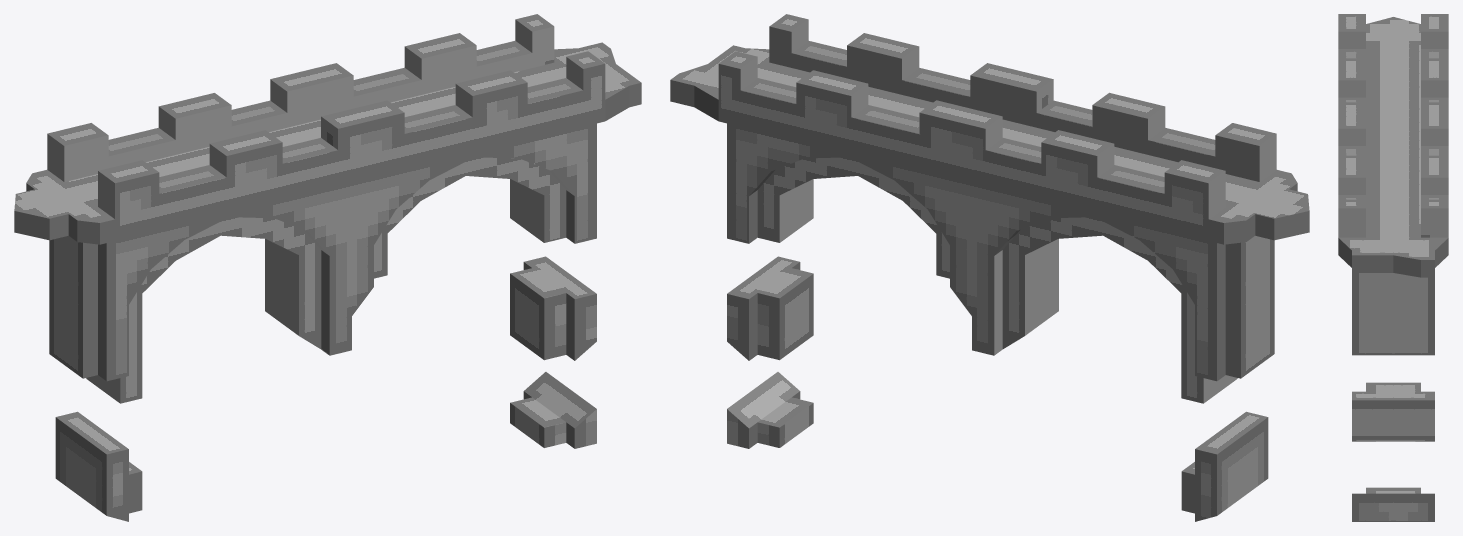
Rendered from Bridge_Type#1.gltf.
The picture shows the model from 3 angles, left to right: view 1: azimuth 30°, elevation 25°; view 2: azimuth 150°, elevation 25°; view 3: azimuth 270°, elevation 25°; orthographic projection. The views are drawn at different scales.
Parts seen in each view (by area): view 1: Bridge_Type1; view 2: Bridge_Type1; view 3: Bridge_Type1.
Boxes of the visible parts, box(x1,y1,x2,y2) form: Bridge_Type1: box(14, 14, 641, 521); Bridge_Type1: box(670, 14, 1309, 521); Bridge_Type1: box(1338, 14, 1448, 521).
Bounding box in the file's own units: 3.66 × 2.2 × 0.7017.
1 material, 1 textured.
